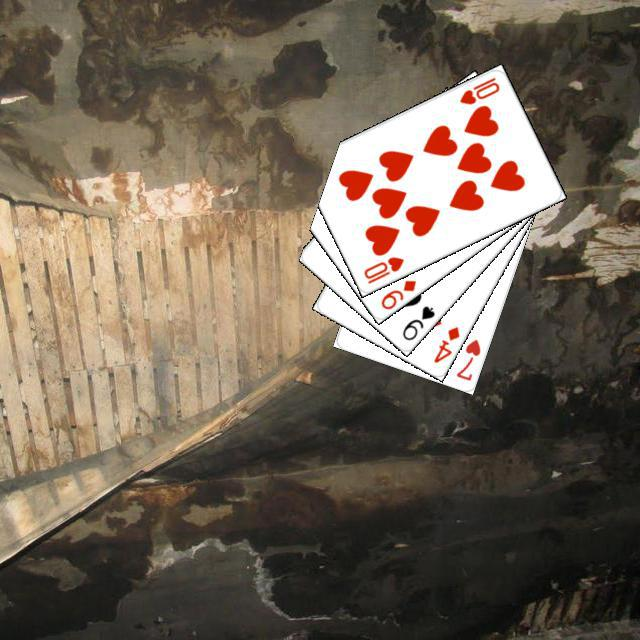10h: (455, 72, 501, 106), (359, 252, 406, 285)
4d: (429, 321, 461, 365)
7h: (451, 334, 482, 383)
9d: (376, 275, 418, 311)
9s: (397, 301, 436, 342)
